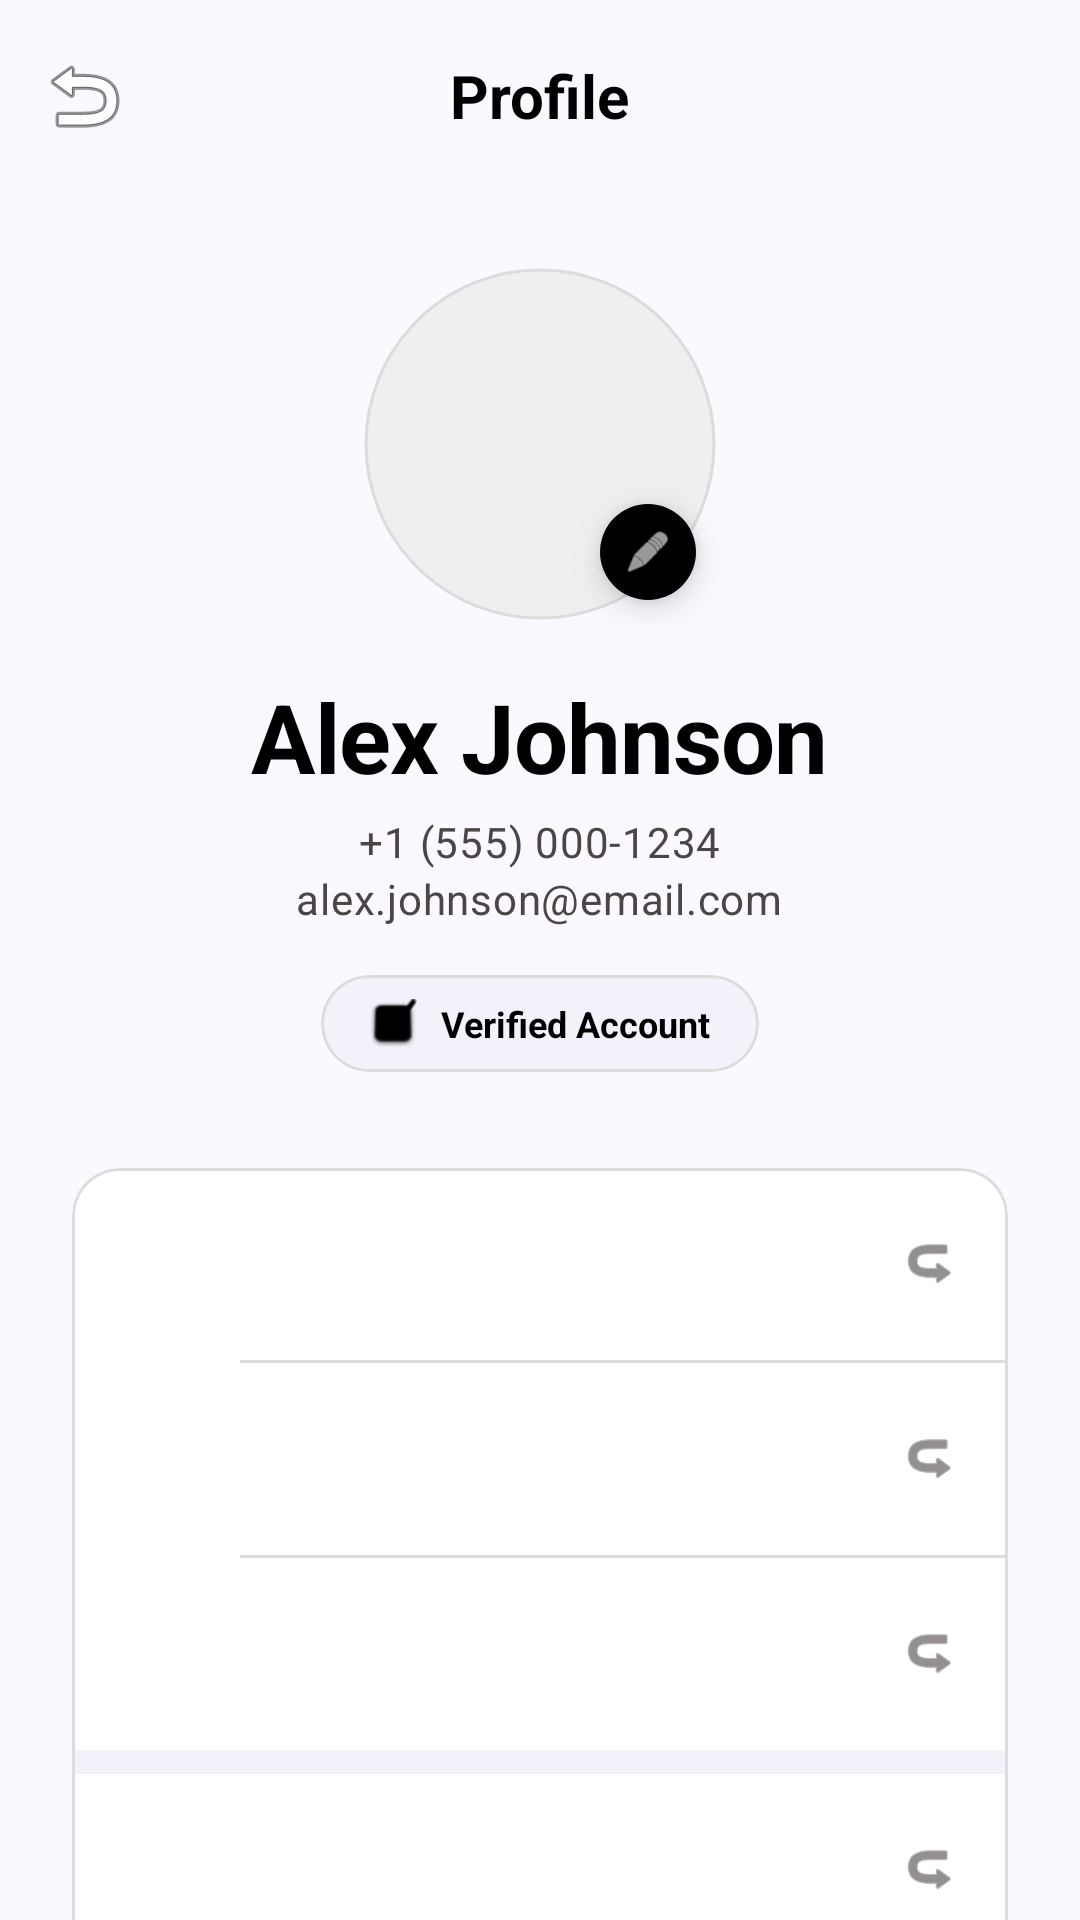

Where to tap for icons on this 1080px x 1920px app screen, as [x,y]:
edit: [648,554]
